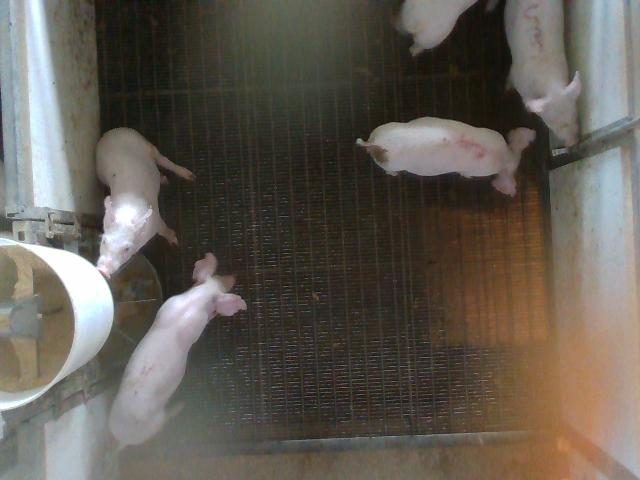pig-3: (505, 0, 581, 146)
pig-5: (356, 118, 535, 196)
